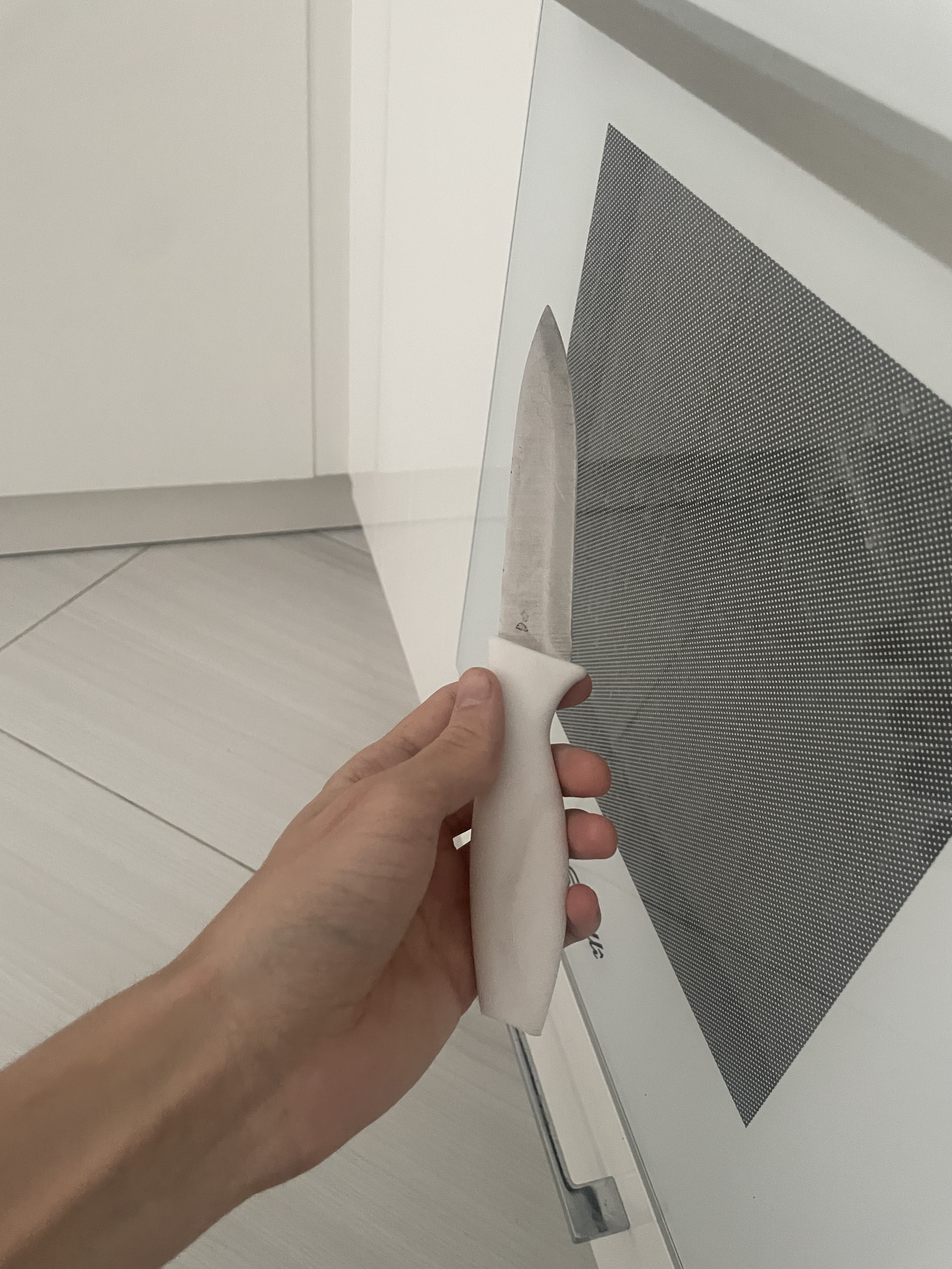knife: (470, 307, 586, 1034)
